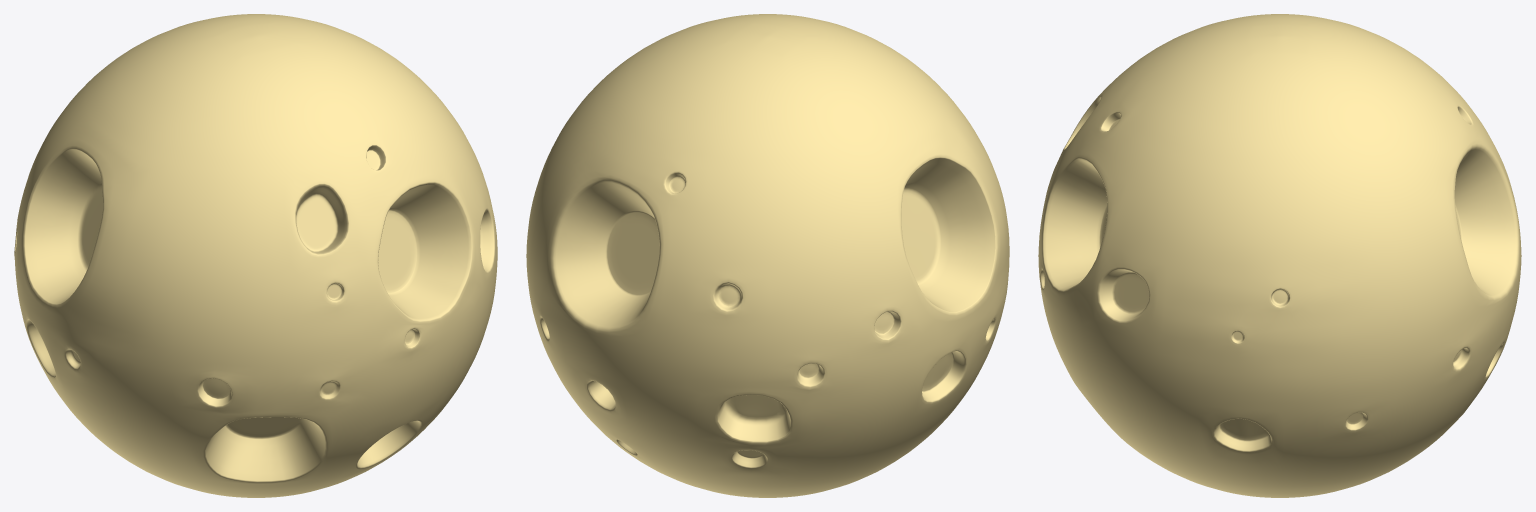
Rendered from SM_20018Lua.fbx.
The picture shows the model from 3 angles, left to right: view 1: azimuth 30°, elevation 25°; view 2: azimuth 150°, elevation 25°; view 3: azimuth 270°, elevation 25°; orthographic projection.
Parts seen in each view (by area): view 1: SM_20018Lua_geo_1; view 2: SM_20018Lua_geo_1; view 3: SM_20018Lua_geo_1.
Boxes of the visible parts, x1,y1,x2,y2 form: SM_20018Lua_geo_1: (14, 14, 497, 497); SM_20018Lua_geo_1: (526, 14, 1009, 497); SM_20018Lua_geo_1: (1038, 14, 1521, 497).
Bounding box in the file's own units: 217 × 218 × 217.
